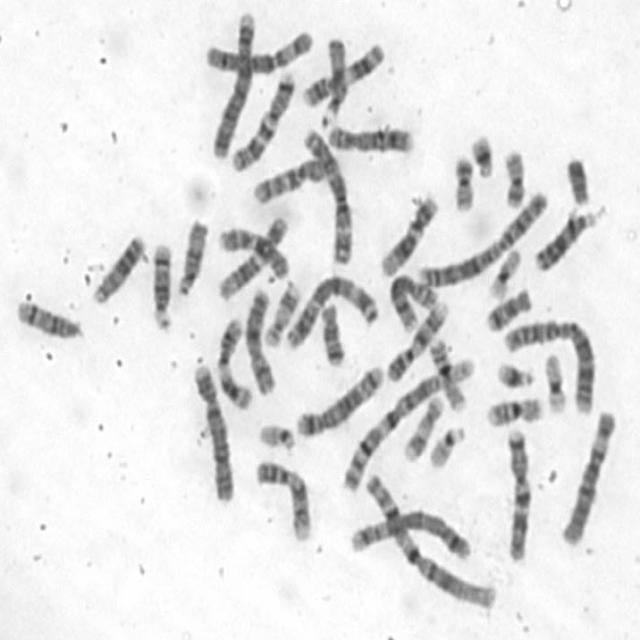A1: (358, 470, 498, 612), (339, 355, 478, 494)
A2: (414, 188, 550, 290), (500, 314, 598, 416)
A3: (282, 270, 380, 352), (299, 123, 355, 266)
B4: (208, 8, 258, 160), (190, 358, 235, 504)
B5: (293, 360, 385, 440), (348, 506, 473, 561)
C10: (216, 222, 290, 280), (248, 153, 328, 205)
C11: (298, 38, 387, 110), (214, 312, 254, 412)
C12: (377, 190, 440, 278), (213, 218, 290, 288)
C6: (558, 405, 619, 546), (201, 26, 315, 78)
C7: (228, 68, 298, 172), (501, 422, 532, 562)
C8: (386, 271, 441, 333), (322, 119, 414, 155)
C9: (384, 298, 449, 384), (253, 456, 313, 544)
D13: (88, 230, 146, 306), (531, 207, 596, 273)
D14: (13, 296, 85, 342), (150, 239, 173, 332)
D15: (318, 32, 349, 130), (174, 215, 209, 298)
E16: (427, 335, 468, 413), (484, 392, 544, 430)
E17: (401, 392, 445, 463), (261, 276, 302, 350)
E18: (481, 285, 534, 333), (317, 300, 346, 368)
F19: (484, 243, 523, 301), (542, 348, 569, 414)
F20: (500, 146, 528, 210), (451, 153, 476, 213)
G21: (494, 357, 536, 391), (468, 130, 496, 180)
G22: (426, 421, 468, 470), (255, 419, 298, 451)
X: (243, 286, 277, 395)
Y: (563, 153, 593, 207)
